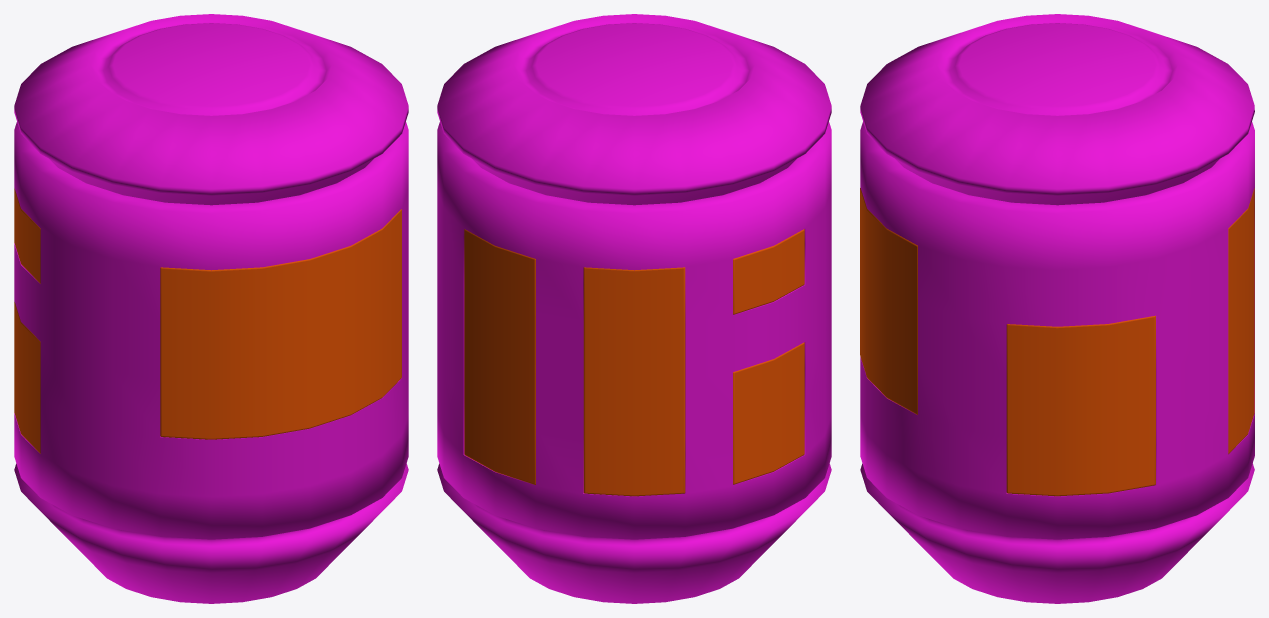
Rendered from RepairPropFINAL.fbx.
3 renders of one model, left to right at view 1: azimuth 30°, elevation 25°; view 2: azimuth 150°, elevation 25°; view 3: azimuth 270°, elevation 25°, orthographic.
Parts seen in each view (by area): view 1: CaseLP, LidLP, Panels.003, Panels.004, Panels.005; view 2: CaseLP, LidLP, Panels.001, Panels.002, Panels.004, Panels.005; view 3: CaseLP, LidLP, Panels, Panels.003, Panels.002.
Part boxes in pixels (x1=…): CaseLP: x1=14, y1=122, x2=408, y2=603; LidLP: x1=14, y1=14, x2=408, y2=205; Panels.003: x1=160, y1=209, x2=401, y2=439; Panels.004: x1=14, y1=302, x2=40, y2=453; Panels.005: x1=14, y1=188, x2=40, y2=283; CaseLP: x1=437, y1=122, x2=831, y2=603; LidLP: x1=437, y1=14, x2=831, y2=205; Panels.001: x1=583, y1=267, x2=685, y2=496; Panels.002: x1=464, y1=229, x2=535, y2=484; Panels.004: x1=733, y1=342, x2=804, y2=484; Panels.005: x1=733, y1=229, x2=804, y2=314; CaseLP: x1=860, y1=121, x2=1254, y2=603; LidLP: x1=860, y1=14, x2=1254, y2=205; Panels: x1=1006, y1=315, x2=1155, y2=496; Panels.003: x1=860, y1=187, x2=917, y2=414; Panels.002: x1=1228, y1=188, x2=1254, y2=453.
Bounding box in the file's own units: 200 × 273 × 200.
